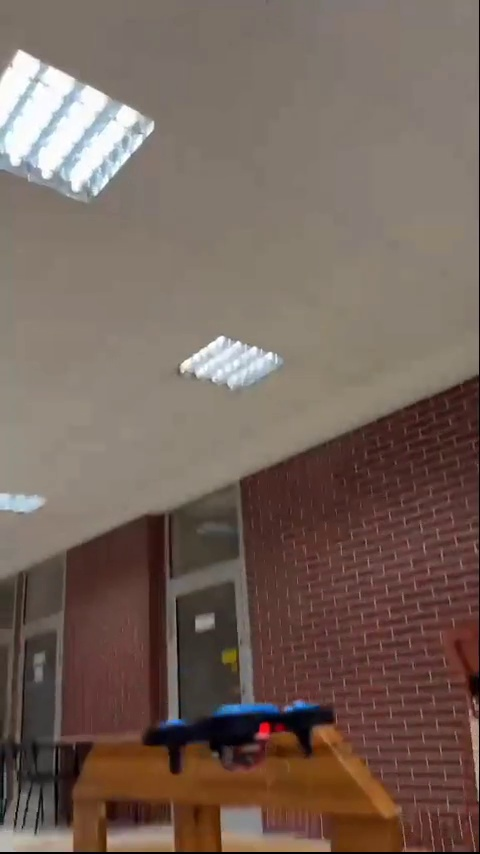drone: (144, 698, 337, 769)
